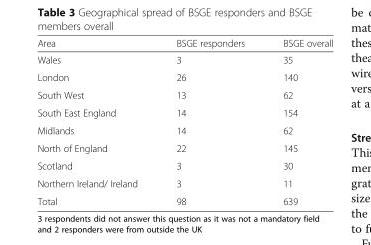table: (36, 37, 332, 206)
table column: (36, 37, 156, 206), (156, 37, 263, 206), (263, 37, 332, 206)
table column header: (36, 37, 332, 50)
table row: (36, 50, 332, 68), (36, 85, 332, 103), (36, 103, 332, 121), (36, 138, 332, 156), (36, 156, 332, 174), (36, 174, 332, 192), (36, 68, 332, 85), (36, 121, 332, 138), (36, 192, 332, 206), (36, 37, 332, 50)
